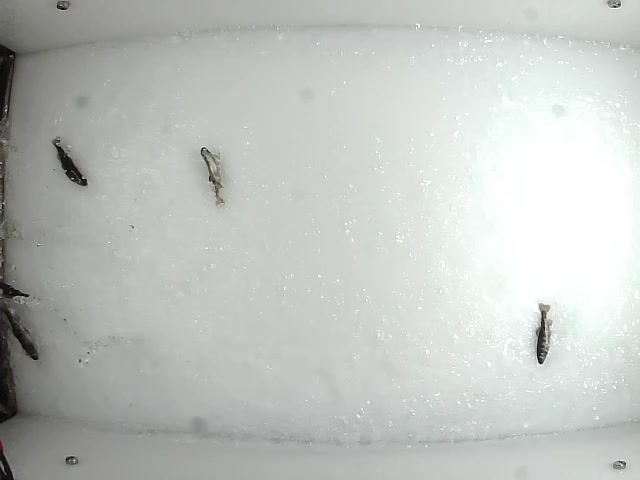fish: (1, 295, 45, 364), (47, 133, 93, 188), (197, 141, 228, 207), (533, 299, 554, 365)
